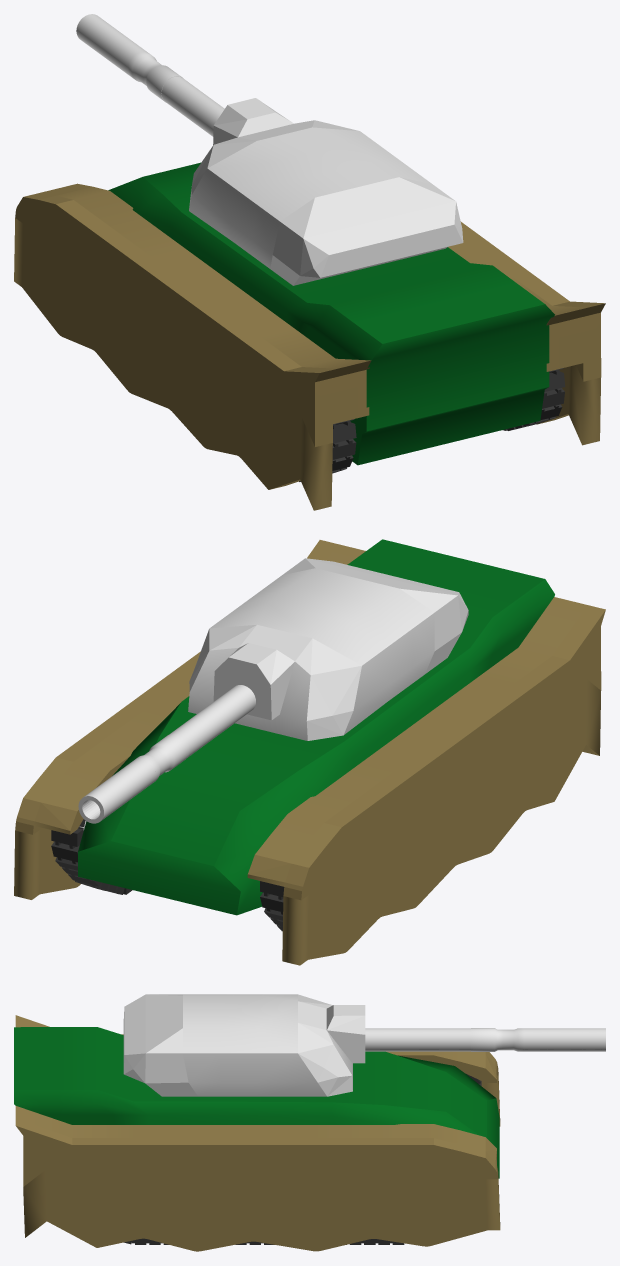
The model's file is tank (with more armour).fbx.
The picture shows the model from 3 angles, top to bottom: view 1: azimuth 30°, elevation 25°; view 2: azimuth 150°, elevation 25°; view 3: azimuth 270°, elevation 25°; orthographic projection. The views are drawn at different scales.
Visible parts, largest first — view 1: TrackArmour, Box001, Box002, TrackArmour001, Cylinder010, Cylinder011, Cylinder008; view 2: TrackArmour, Box001, Box002, TrackArmour001, Cylinder011, Cylinder010, Cylinder008; view 3: TrackArmour001, Box001, Box002, Cylinder011, TrackArmour, Cylinder010, Cylinder008.
Part boxes in pixels (<box>): TrackArmour: <box>14,183,371,510</box>; Box001: <box>108,162,554,465</box>; Box002: <box>189,98,463,285</box>; TrackArmour001: <box>448,221,605,445</box>; Cylinder010: <box>76,14,147,76</box>; Cylinder011: <box>161,76,224,136</box>; Cylinder008: <box>128,52,182,102</box>; TrackArmour: <box>247,597,605,965</box>; Box001: <box>78,539,554,915</box>; Box002: <box>188,558,468,740</box>; TrackArmour001: <box>14,540,365,899</box>; Cylinder011: <box>170,685,255,757</box>; Cylinder010: <box>78,758,155,823</box>; Cylinder008: <box>135,733,189,782</box>; TrackArmour001: <box>15,1106,500,1251</box>; Box001: <box>14,1027,499,1178</box>; Box002: <box>123,994,365,1096</box>; Cylinder011: <box>365,1028,470,1051</box>; TrackArmour: <box>15,1015,500,1126</box>; Cylinder010: <box>524,1028,605,1051</box>; Cylinder008: <box>471,1028,524,1051</box>.
Size of the model in its own units: 139 by 111 by 315.
